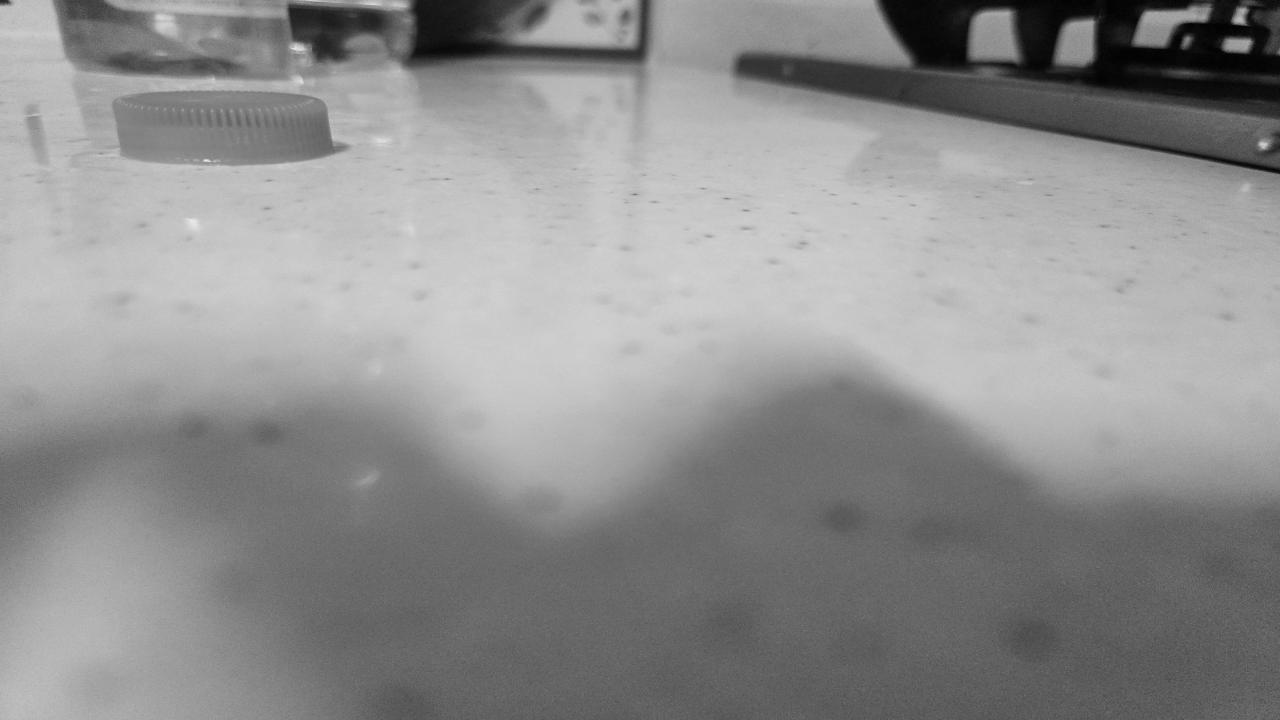bottle_cap: (106, 87, 340, 166)
